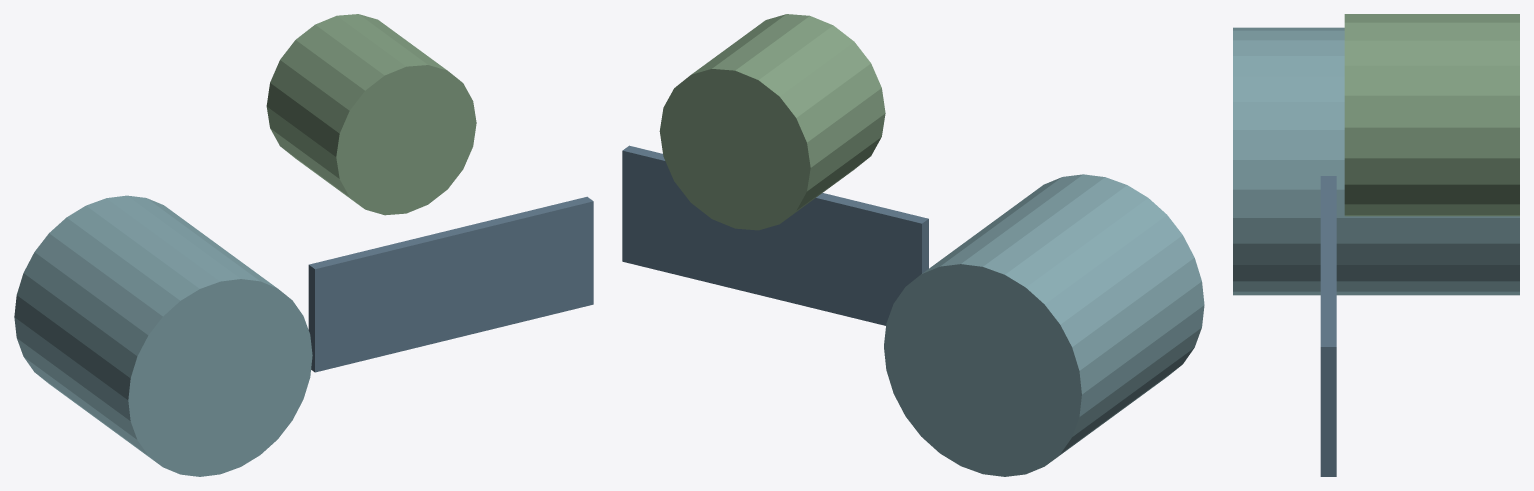
The model's file is sustainable-module-high.glb.
The picture shows the model from 3 angles, left to right: view 1: azimuth 30°, elevation 25°; view 2: azimuth 150°, elevation 25°; view 3: azimuth 270°, elevation 25°; orthographic projection. The views are drawn at different scales.
Visible parts, largest first — view 1: tank, recovery, panel-1, panel-0; view 2: tank, recovery, panel-0, panel-1; view 3: tank, recovery, panel-1, panel-0.
Part boxes in pixels (bbox=[...]): tank: bbox=[14, 195, 312, 476]; recovery: bbox=[266, 14, 476, 215]; panel-1: bbox=[435, 196, 593, 342]; panel-0: bbox=[308, 226, 472, 372]; tank: bbox=[884, 174, 1204, 476]; recovery: bbox=[659, 14, 885, 230]; panel-0: bbox=[752, 193, 928, 325]; panel-1: bbox=[622, 145, 780, 293]; tank: bbox=[1233, 27, 1519, 295]; recovery: bbox=[1344, 14, 1519, 216]; panel-1: bbox=[1320, 250, 1336, 476]; panel-0: bbox=[1320, 176, 1336, 249].
Bounding box in the file's own units: 2.28 × 1.39 × 0.9.
